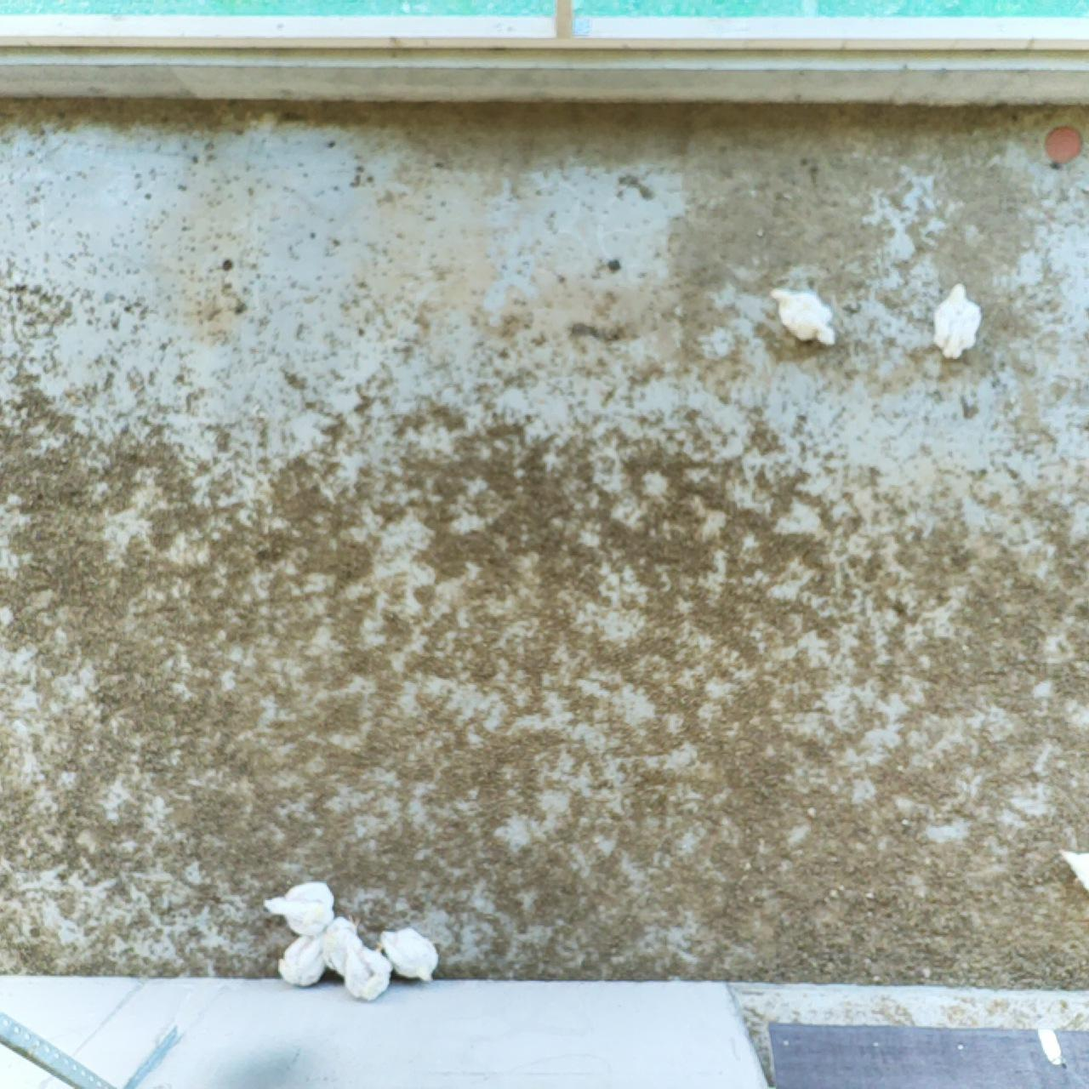chicken: (764, 282, 842, 352), (927, 276, 987, 364), (261, 877, 338, 941), (371, 921, 442, 988), (336, 937, 393, 1003), (272, 928, 329, 993), (316, 912, 367, 977)
